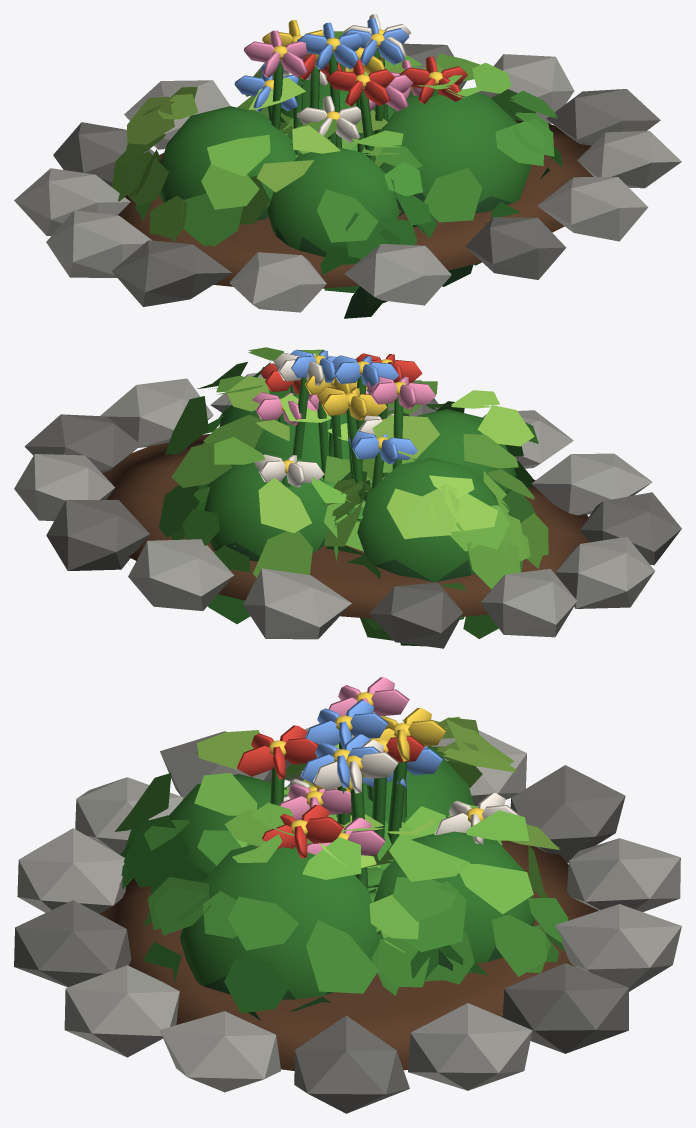
File: FlowerBed.glb
The picture shows the model from 3 angles, top to bottom: view 1: azimuth 30°, elevation 25°; view 2: azimuth 150°, elevation 25°; view 3: azimuth 270°, elevation 25°; orthographic projection. The views are drawn at different scales.
Visible parts, largest first — view 1: Body; view 2: Body; view 3: Body.
Part boxes in pixels (left/top/right/bottom): Body: left=14, top=14, right=681, bottom=318; Body: left=14, top=347, right=681, bottom=648; Body: left=14, top=677, right=681, bottom=1113.
Bounding box in the file's own units: 3.96 × 1.56 × 3.1.
Materials: 1 (1 with a texture image).
